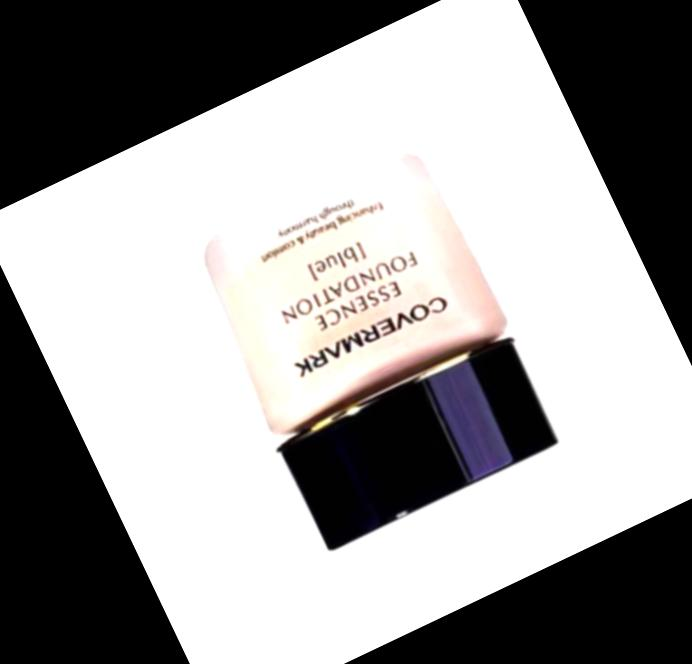cosmetic: (179, 134, 566, 554)
